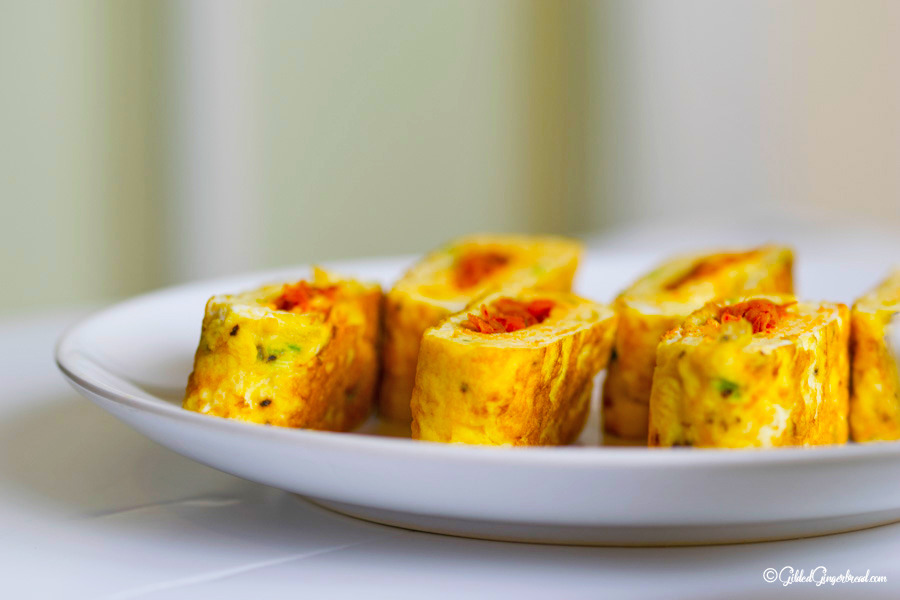gyelanmal-i: (177, 222, 896, 449)
